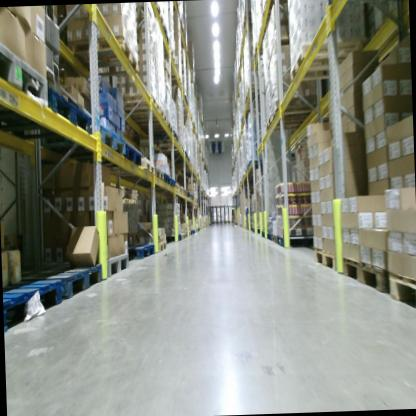pallet: (0, 86, 95, 141), (38, 118, 126, 161), (287, 38, 362, 87), (0, 34, 51, 106), (32, 257, 104, 308), (3, 277, 63, 335), (59, 33, 139, 74), (340, 254, 389, 298), (383, 270, 416, 320), (117, 102, 169, 127), (270, 96, 317, 118), (101, 143, 142, 168), (265, 113, 311, 130), (115, 156, 157, 174), (125, 95, 162, 115), (278, 235, 319, 253), (105, 251, 131, 278), (124, 242, 157, 262), (134, 121, 175, 136), (140, 130, 179, 145), (315, 246, 337, 271), (156, 141, 184, 154), (151, 3, 164, 24), (160, 19, 168, 48), (162, 49, 176, 62), (125, 231, 139, 244), (153, 167, 164, 183), (165, 234, 182, 243), (156, 241, 168, 252), (163, 173, 171, 187), (273, 231, 279, 246), (266, 232, 274, 243), (171, 77, 183, 84), (175, 179, 181, 192), (171, 177, 176, 188), (180, 184, 185, 194), (124, 195, 130, 203), (184, 232, 189, 240), (183, 189, 187, 198), (181, 233, 185, 241)
